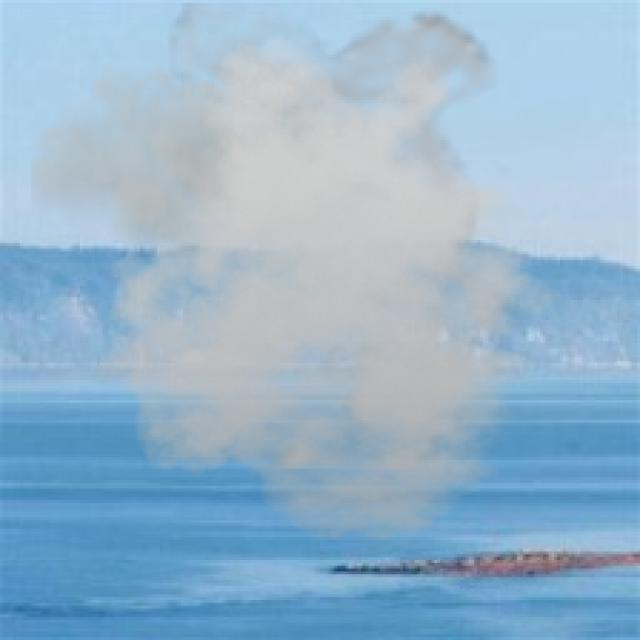smoke: (31, 3, 588, 543)
